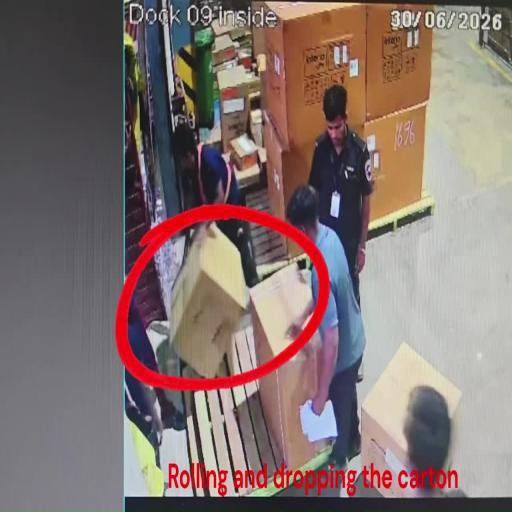carton: (248, 267, 331, 468), (256, 1, 367, 150), (362, 341, 462, 497), (170, 221, 250, 380), (366, 4, 433, 125), (362, 104, 428, 226), (261, 116, 313, 258), (219, 88, 250, 154), (229, 134, 261, 170), (246, 160, 267, 192)
forklift: (124, 0, 218, 306)
pallet: (178, 314, 324, 498), (236, 188, 290, 276), (366, 200, 433, 246)
person: (286, 185, 366, 470), (306, 83, 375, 310), (174, 117, 260, 289), (124, 301, 178, 498), (402, 385, 466, 499)
